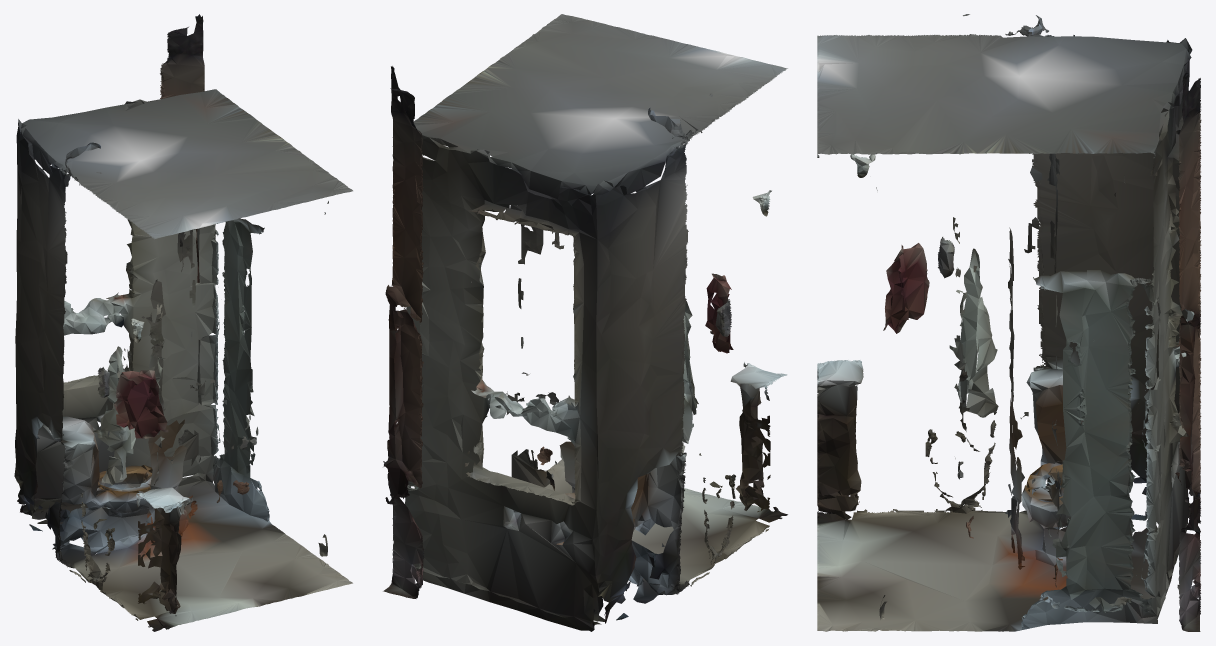
Rendered from coarse.glb.
3 views of the same model, side by side, from view 1: azimuth 30°, elevation 25°; view 2: azimuth 150°, elevation 25°; view 3: azimuth 270°, elevation 25° (orthographic). The views are drawn at different scales.
Bounding box in the file's own units: 1.45 × 3.19 × 1.99.
